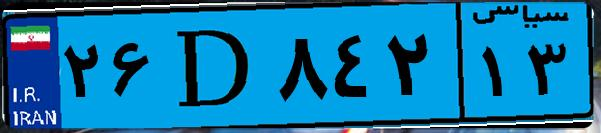1: (475, 38, 525, 113)
2: (385, 28, 445, 110), (57, 26, 110, 100)
3: (525, 38, 570, 115)
4: (330, 28, 385, 110)
6: (110, 28, 158, 98)
8: (270, 28, 330, 110)
D: (158, 12, 270, 120)
